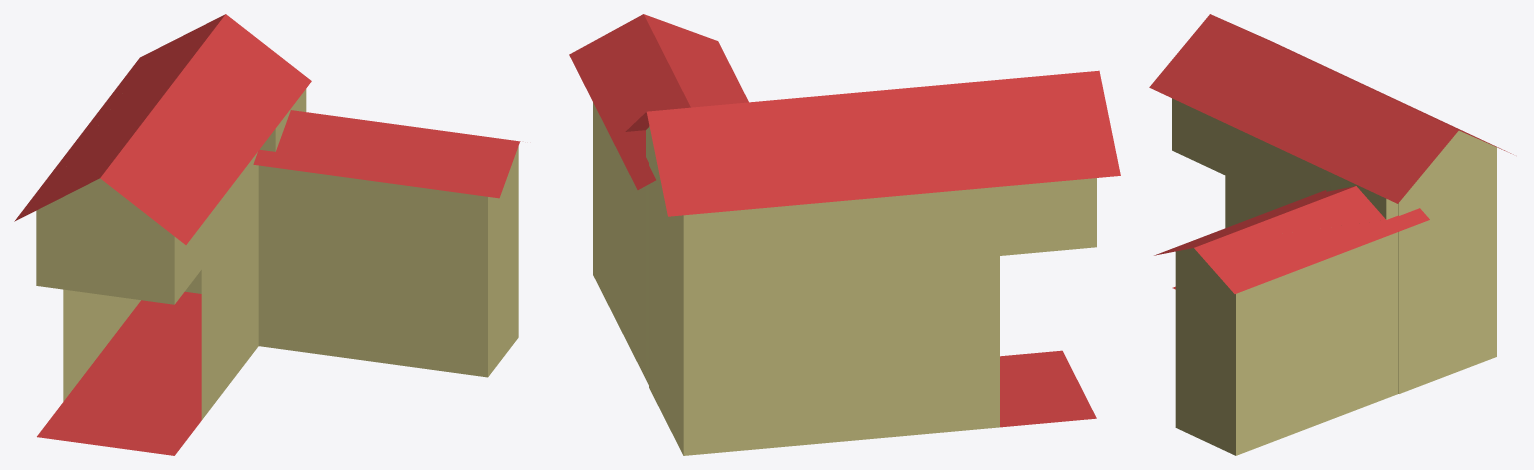
3 renders of one model, left to right at view 1: azimuth 30°, elevation 25°; view 2: azimuth 150°, elevation 25°; view 3: azimuth 270°, elevation 25°, orthographic. The views are drawn at different scales.
Visible parts, largest first — view 1: group_9, group_5, group_3, group_6, group_7, group_4, group_8; view 2: group_5, group_3, group_4, group_7, group_9, group_6, group_8; view 3: group_9, group_5, group_3, group_7, group_4, group_8.
Part boxes in pixels (x1=…): group_9: x1=275, y1=146, x2=518, y2=377; group_5: x1=36, y1=89, x2=306, y2=419; group_3: x1=37, y1=14, x2=311, y2=244; group_6: x1=37, y1=291, x2=201, y2=455; group_7: x1=276, y1=110, x2=520, y2=197; group_4: x1=14, y1=14, x2=274, y2=244; group_8: x1=253, y1=140, x2=517, y2=198; group_5: x1=646, y1=126, x2=1096, y2=455; group_3: x1=648, y1=70, x2=1120, y2=215; group_4: x1=625, y1=71, x2=1120, y2=216; group_7: x1=569, y1=14, x2=733, y2=189; group_9: x1=593, y1=102, x2=645, y2=378; group_6: x1=1000, y1=350, x2=1096, y2=427; group_8: x1=570, y1=14, x2=748, y2=185; group_9: x1=1175, y1=237, x2=1386, y2=455; group_5: x1=1172, y1=98, x2=1496, y2=398; group_3: x1=1150, y1=19, x2=1489, y2=203; group_7: x1=1155, y1=186, x2=1429, y2=293; group_4: x1=1149, y1=14, x2=1513, y2=169; group_8: x1=1154, y1=190, x2=1426, y2=292.
Bounding box in the file's own units: 24.62 × 17.16 × 12.78.
